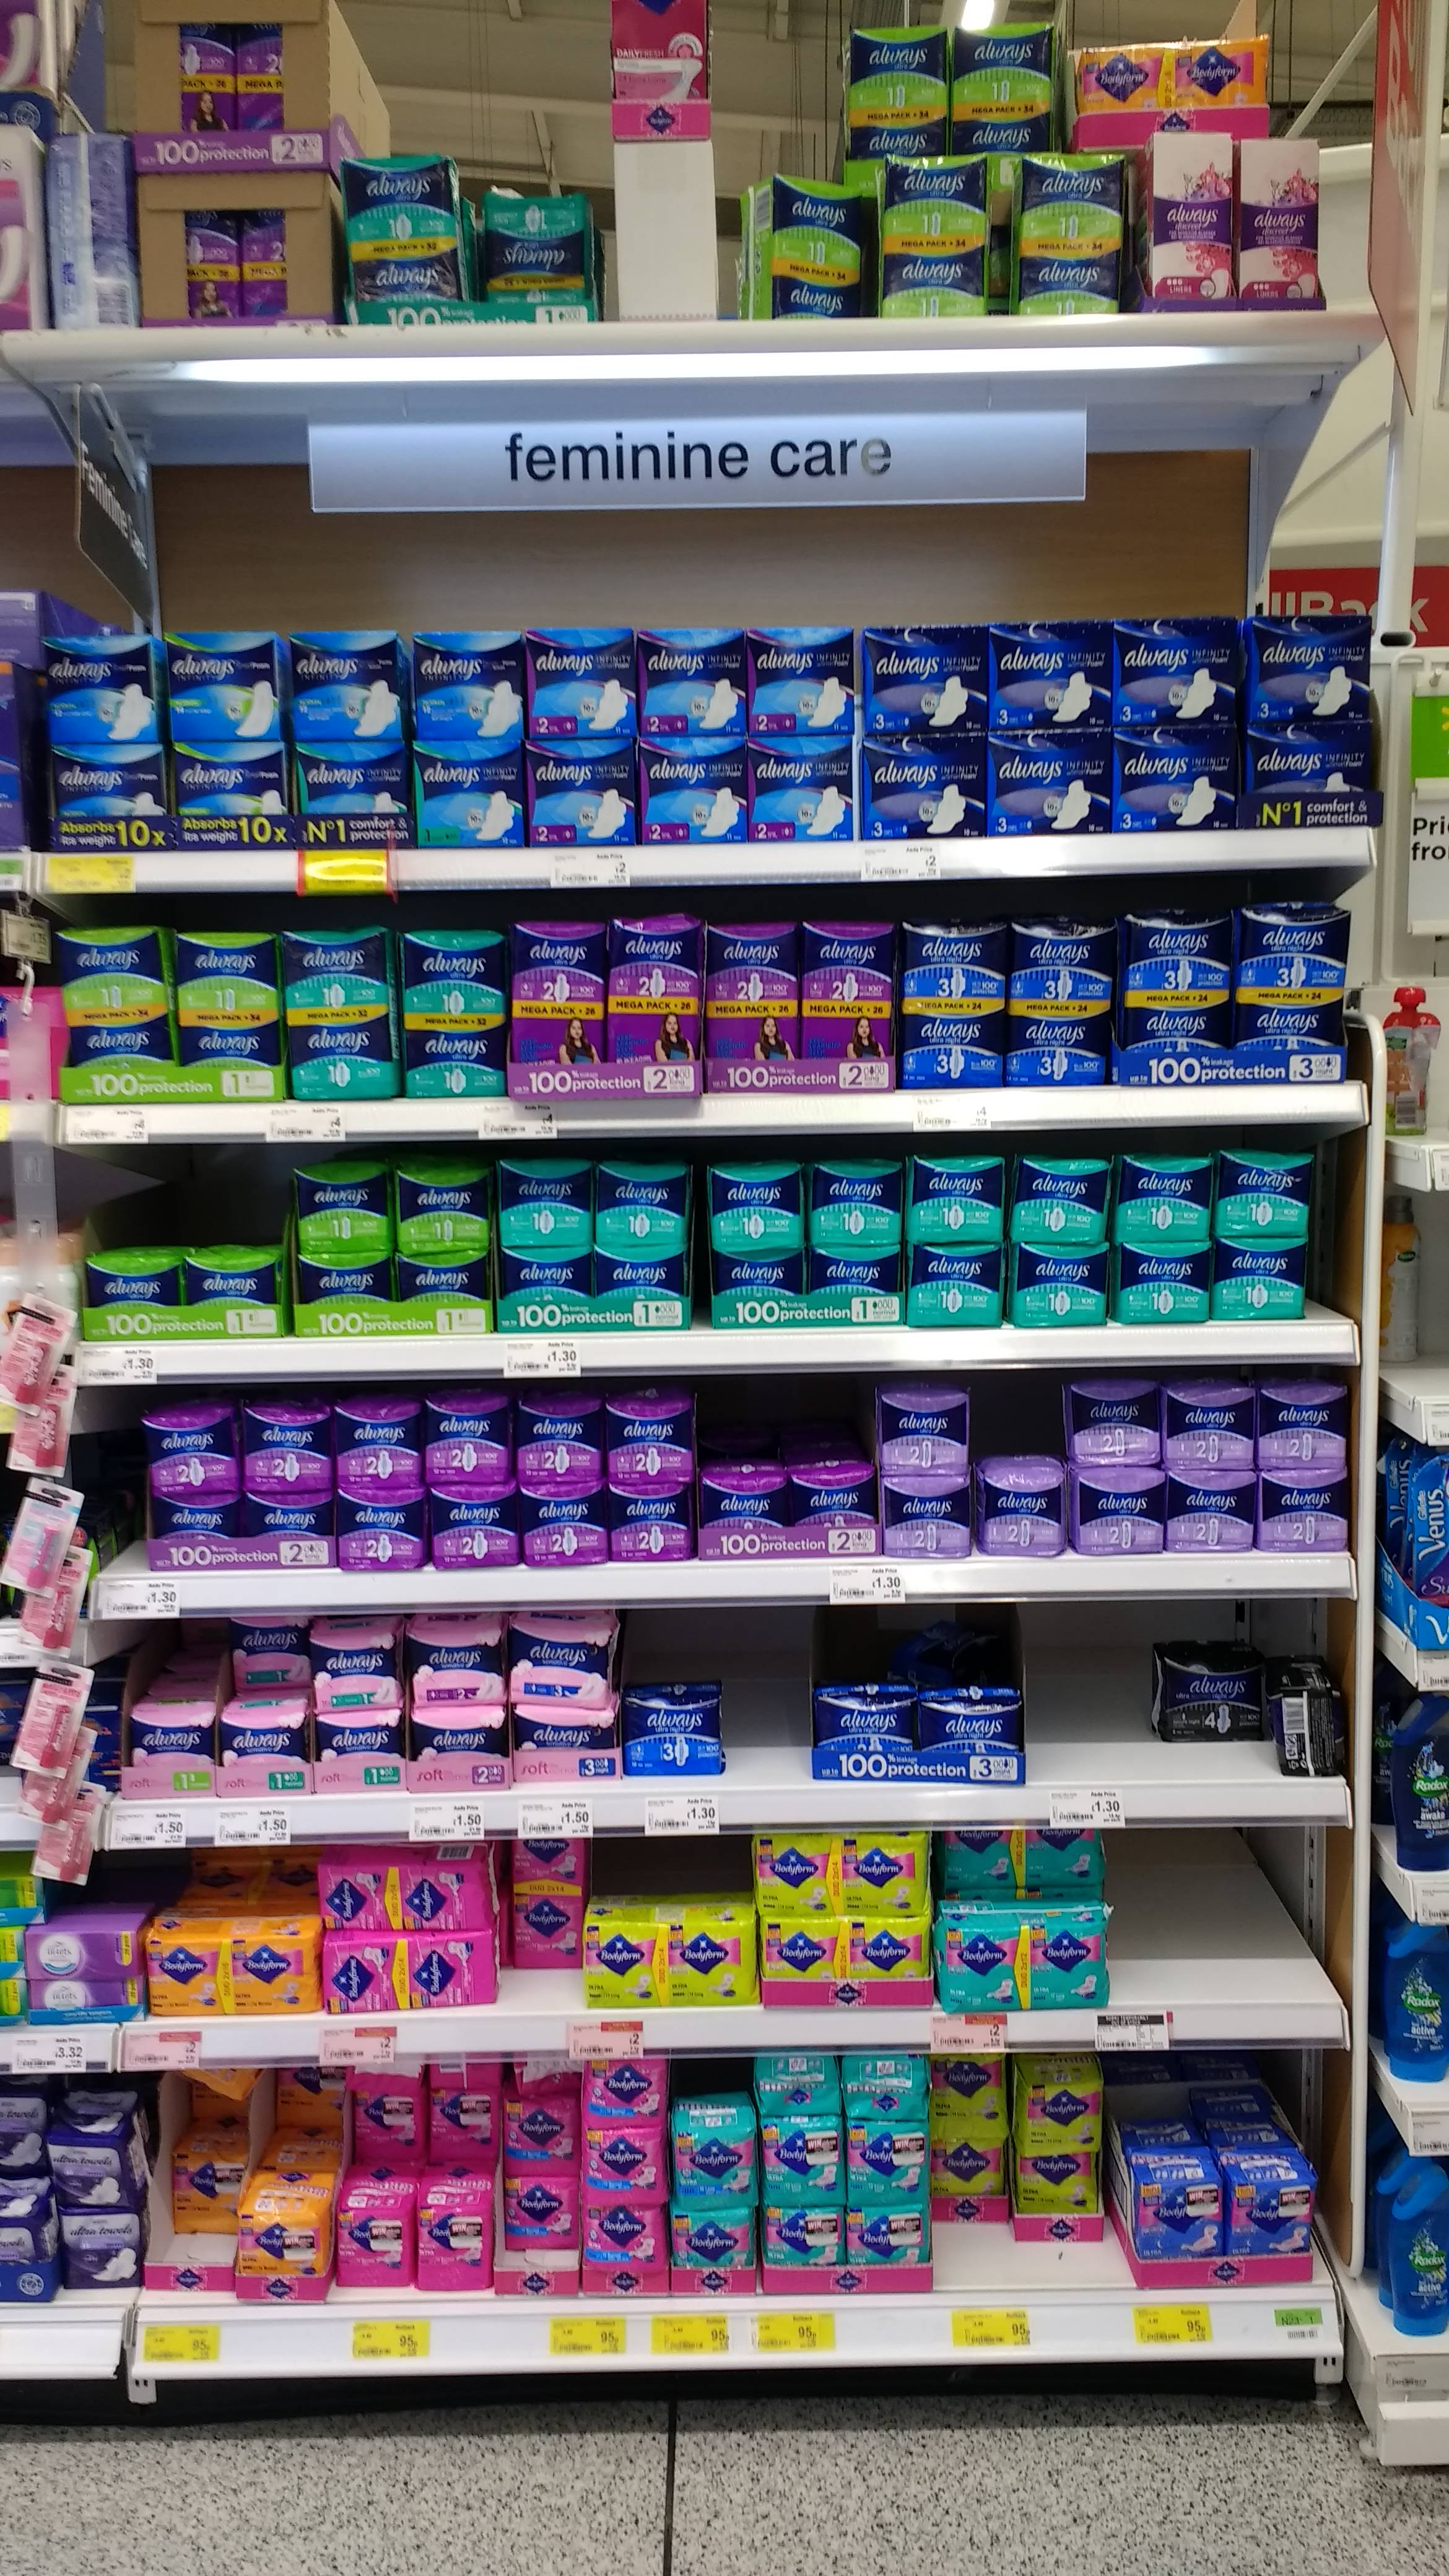Misplacement: (502, 1840, 584, 2012)
Out-of-stock: (1111, 1829, 1338, 2003)
